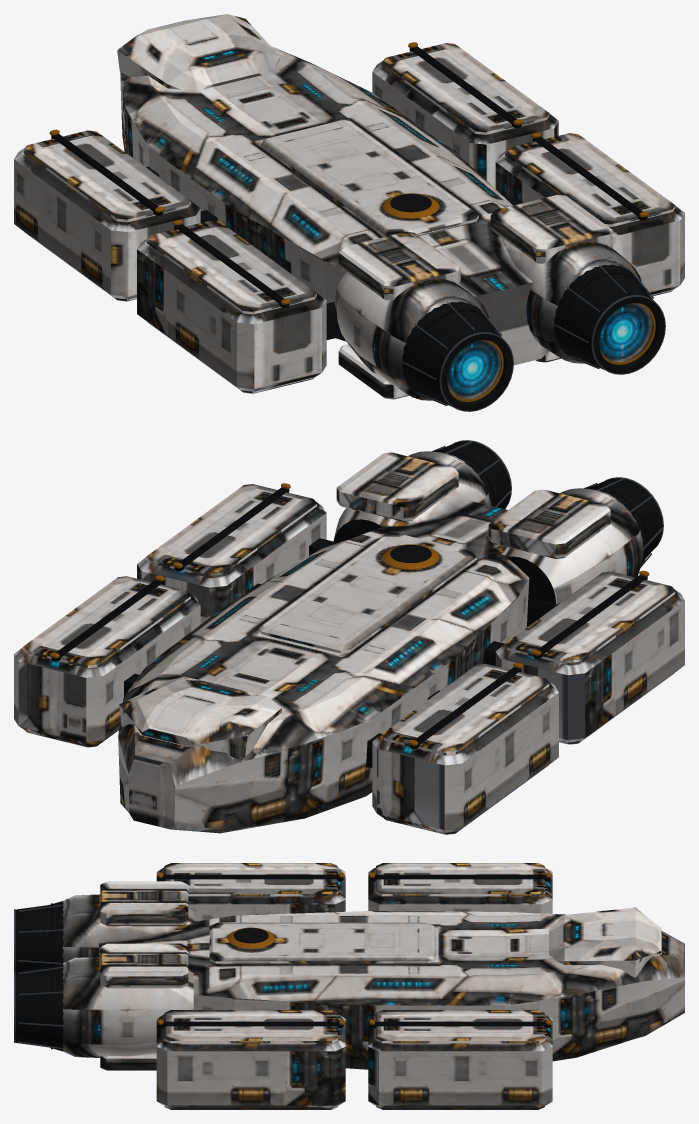
File: troop-transport.obj
3 views of the same model, one above another, from view 1: azimuth 30°, elevation 25°; view 2: azimuth 150°, elevation 25°; view 3: azimuth 270°, elevation 25° (orthographic). The views are drawn at different scales.
Parts seen in each view (by area): view 1: hull_|_armored_troop_transport_core, cargo.port.2_|_closed_container, spine_|_central_boarding_hatch, cargo.port.1_|_closed_container, bridge_|_faceted_command_cabin, enginecase.port_|_pressure_casing, cargo.port.2_|_upper_loading_panel, cargo.starboard.1_|_upper_loading_panel, cargo.starboard.2_|_upper_loading_panel, cargo.port.1_|_upper_loading_panel, cargo.starboard.2_|_closed_container, engine.starboard_|_hollow_nozzle (+14 smaller); view 2: hull_|_armored_troop_transport_core, cargo.port.1_|_closed_container, spine_|_central_boarding_hatch, cargo.port.2_|_closed_container, cargo.starboard.1_|_closed_container, bridge_|_faceted_command_cabin, cargo.port.2_|_upper_loading_panel, cargo.starboard.2_|_upper_loading_panel, enginecase.port_|_pressure_casing, cargo.starboard.1_|_upper_loading_panel, cargo.port.1_|_upper_loading_panel, cargo.starboard.2_|_closed_container (+10 smaller); view 3: hull_|_armored_troop_transport_core, cargo.starboard.2_|_closed_container, cargo.starboard.1_|_closed_container, spine_|_central_boarding_hatch, enginecase.starboard_|_pressure_casing, bridge_|_faceted_command_cabin, cargo.starboard.2_|_upper_loading_panel, cargo.starboard.1_|_upper_loading_panel, cargo.port.1_|_upper_loading_panel, cargo.port.2_|_upper_loading_panel, armor.engine.starboard_|_upper_cowl, armor.engine.port_|_upper_cowl (+12 smaller).
Boxes of the visible parts, x1,y1,x2,y2 form: hull_|_armored_troop_transport_core: [120, 35, 549, 365]; cargo.port.2_|_closed_container: [137, 238, 326, 391]; spine_|_central_boarding_hatch: [260, 120, 478, 236]; cargo.port.1_|_closed_container: [14, 148, 200, 299]; bridge_|_faceted_command_cabin: [117, 14, 279, 89]; enginecase.port_|_pressure_casing: [334, 272, 489, 400]; cargo.port.2_|_upper_loading_panel: [146, 220, 316, 314]; cargo.starboard.1_|_upper_loading_panel: [382, 43, 549, 134]; cargo.starboard.2_|_upper_loading_panel: [505, 133, 675, 226]; cargo.port.1_|_upper_loading_panel: [23, 130, 190, 222]; cargo.starboard.2_|_closed_container: [495, 150, 684, 294]; engine.starboard_|_hollow_nozzle: [554, 264, 664, 373]; hull_|_armored_troop_transport_core: [118, 501, 529, 833]; cargo.port.1_|_closed_container: [372, 681, 558, 832]; spine_|_central_boarding_hatch: [259, 532, 476, 653]; cargo.port.2_|_closed_container: [495, 589, 684, 742]; cargo.starboard.1_|_closed_container: [14, 593, 200, 745]; bridge_|_faceted_command_cabin: [119, 676, 281, 758]; cargo.port.2_|_upper_loading_panel: [505, 571, 675, 665]; cargo.starboard.2_|_upper_loading_panel: [146, 484, 316, 577]; enginecase.port_|_pressure_casing: [501, 488, 643, 627]; cargo.starboard.1_|_upper_loading_panel: [23, 576, 190, 667]; cargo.port.1_|_upper_loading_panel: [382, 663, 549, 755]; cargo.starboard.2_|_closed_container: [137, 501, 326, 624]; hull_|_armored_troop_transport_core: [99, 911, 684, 1069]; cargo.starboard.2_|_closed_container: [156, 1014, 345, 1108]; cargo.starboard.1_|_closed_container: [368, 1014, 552, 1108]; spine_|_central_boarding_hatch: [209, 922, 434, 963]; enginecase.starboard_|_pressure_casing: [62, 956, 193, 1057]; bridge_|_faceted_command_cabin: [549, 907, 661, 977]; cargo.starboard.2_|_upper_loading_panel: [164, 1010, 337, 1043]; cargo.starboard.1_|_upper_loading_panel: [376, 1010, 544, 1043]; cargo.port.1_|_upper_loading_panel: [376, 863, 544, 896]; cargo.port.2_|_upper_loading_panel: [164, 863, 337, 896]; armor.engine.starboard_|_upper_cowl: [100, 943, 188, 988]; armor.engine.port_|_upper_cowl: [100, 881, 188, 926].
Size of the model in its own units: 11.5 by 3.11 by 17.75.
Materials: 7 (2 with a texture image).
